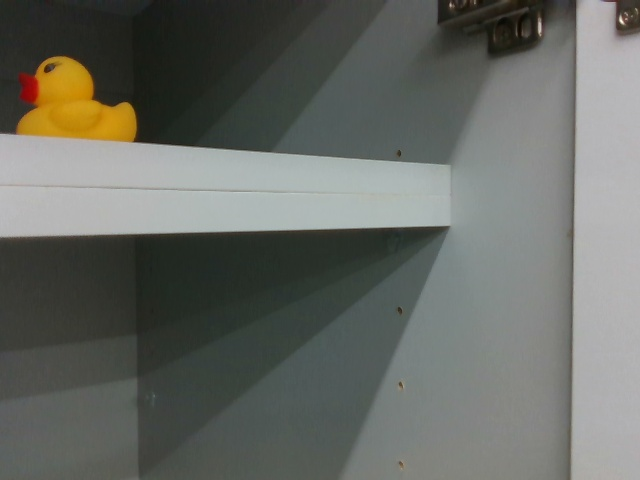duck: (16, 46, 140, 145)
